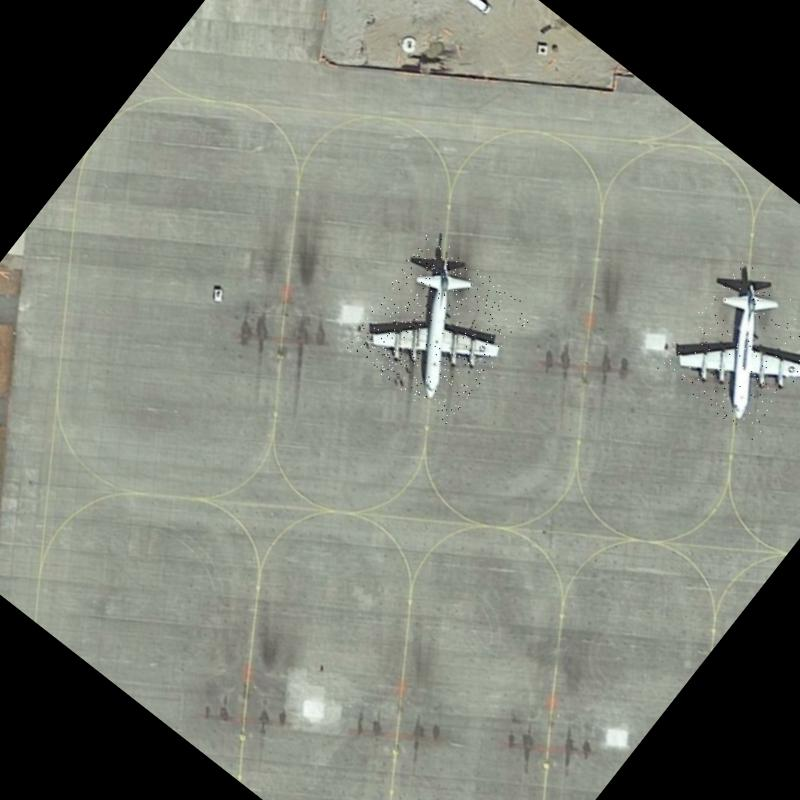A9: (340, 230, 536, 427), (654, 256, 800, 448)
